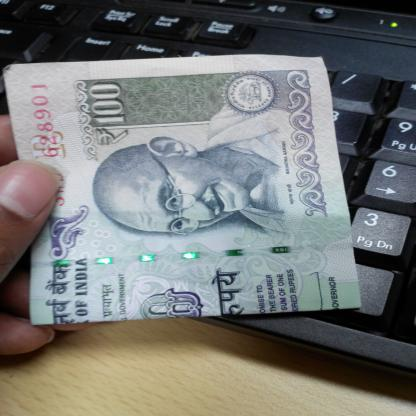Old100Front: (0, 54, 362, 326)
